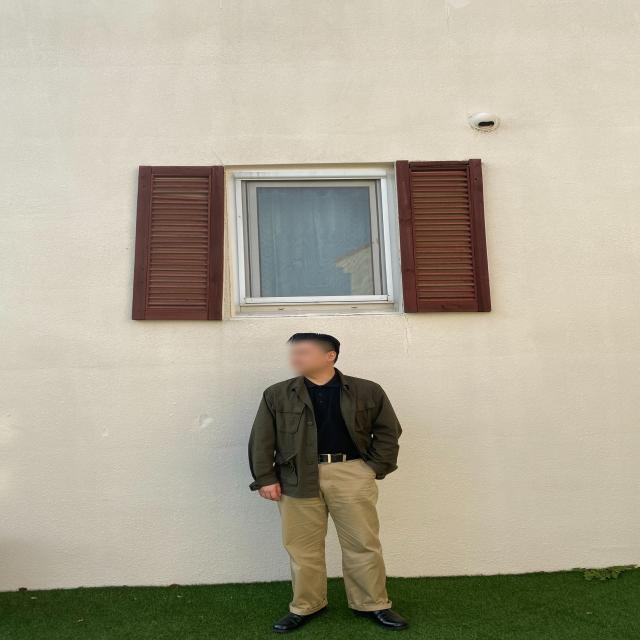cottonpants: (284, 458, 397, 620)
jacket: (248, 369, 399, 500)
